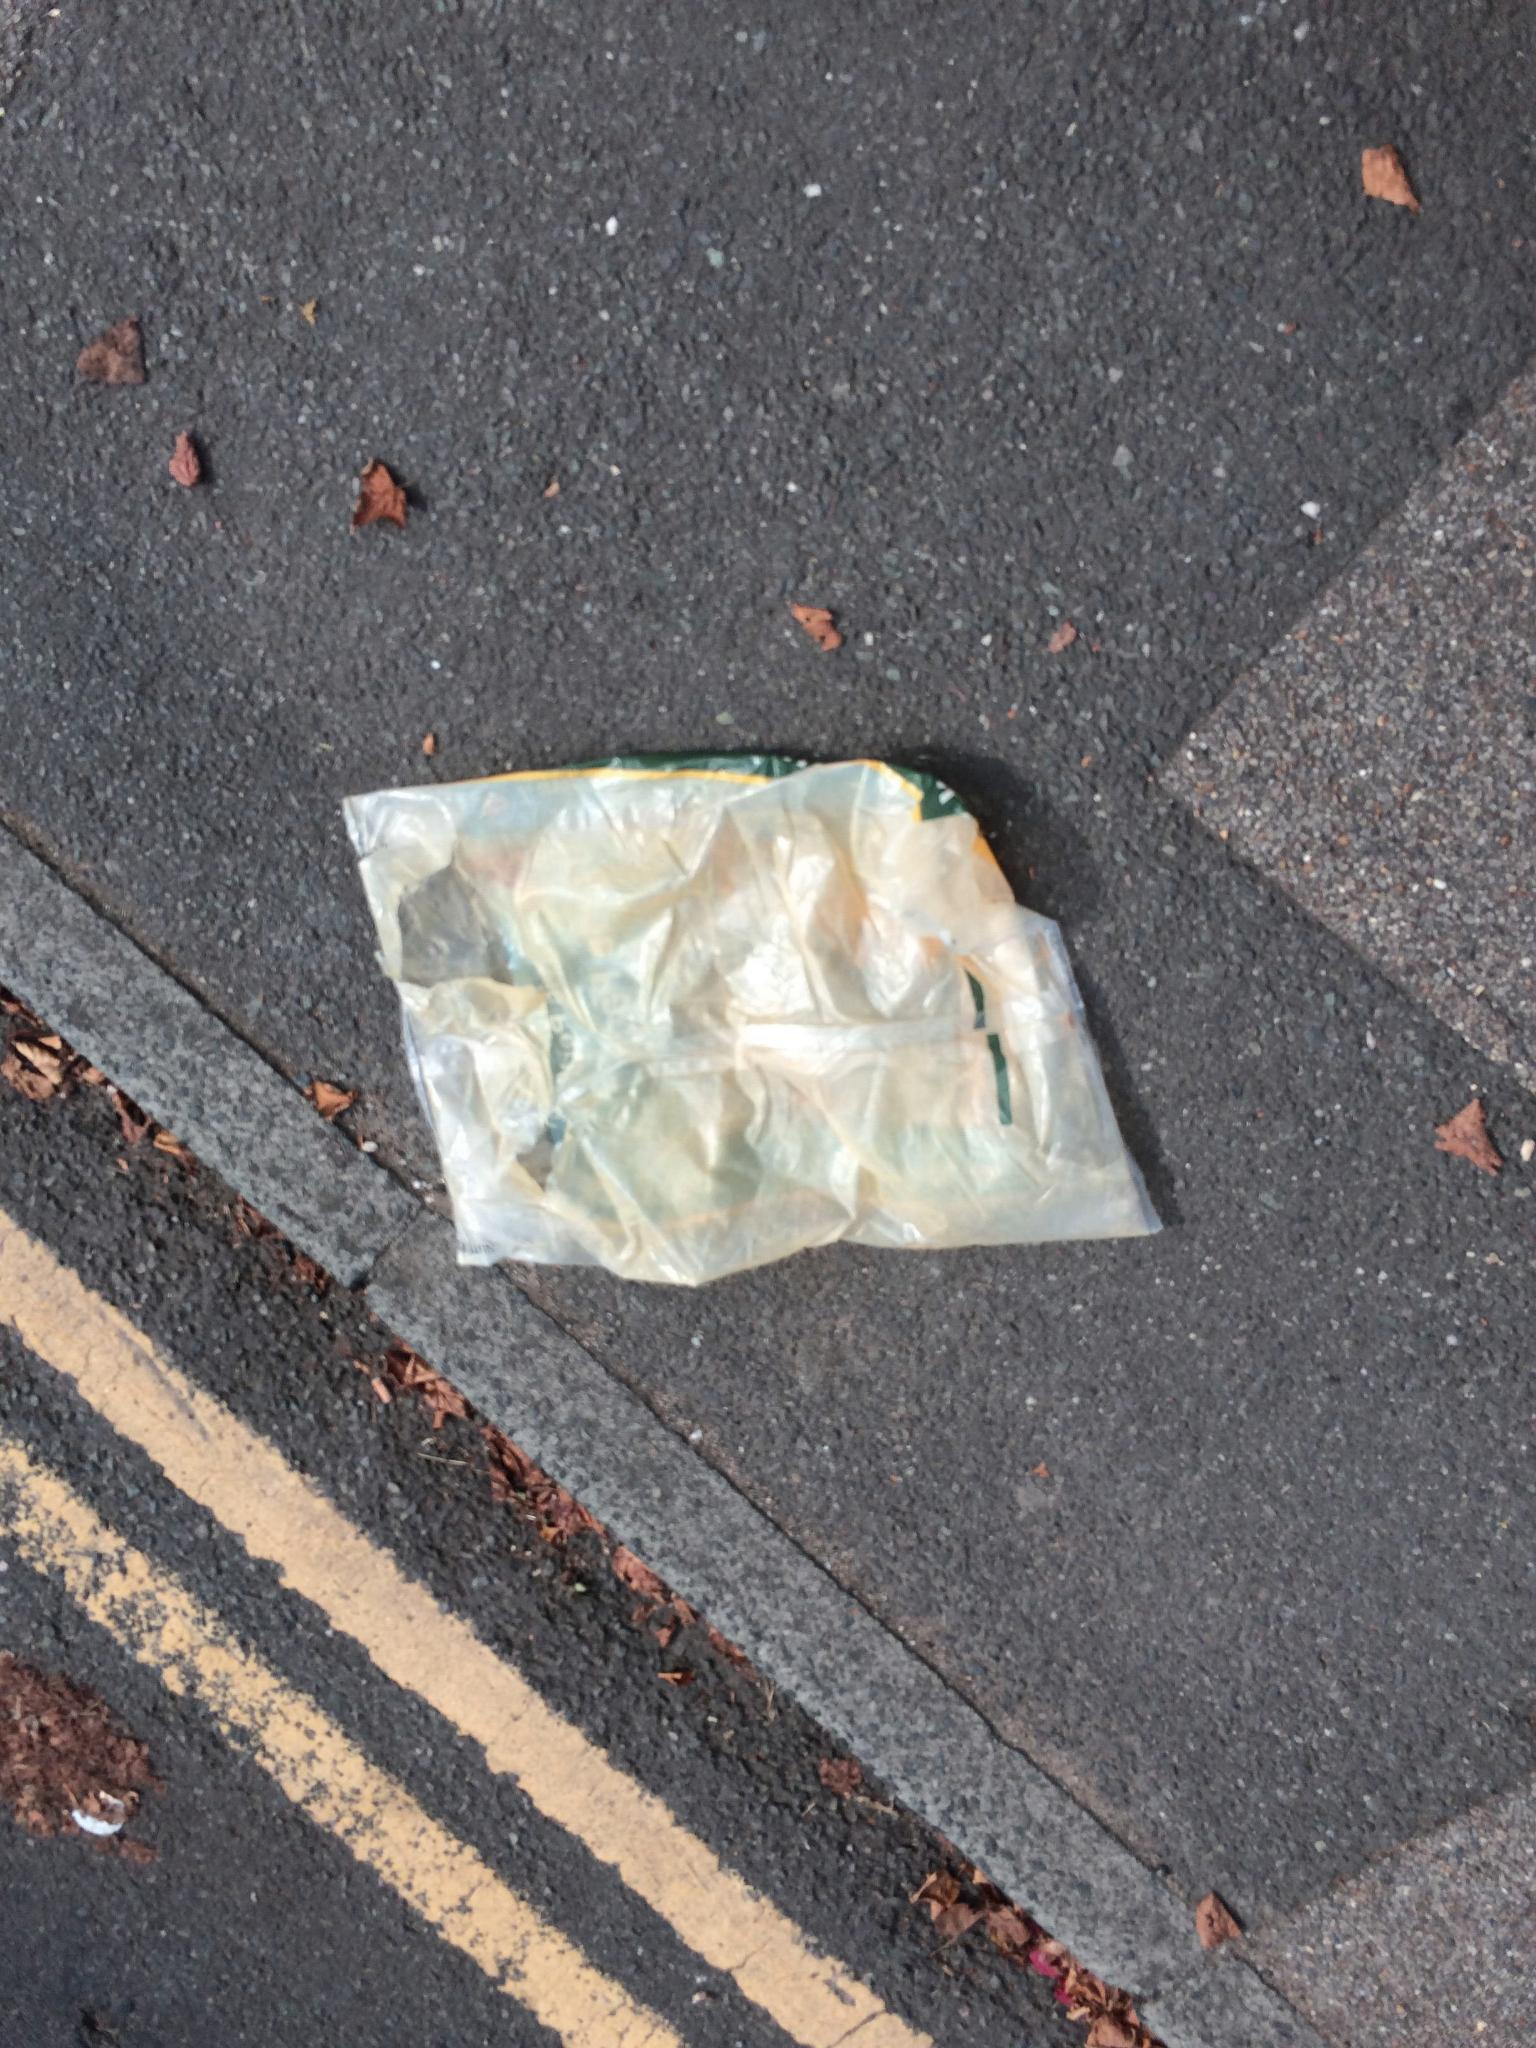Plastic: (318, 737, 1173, 1301)
